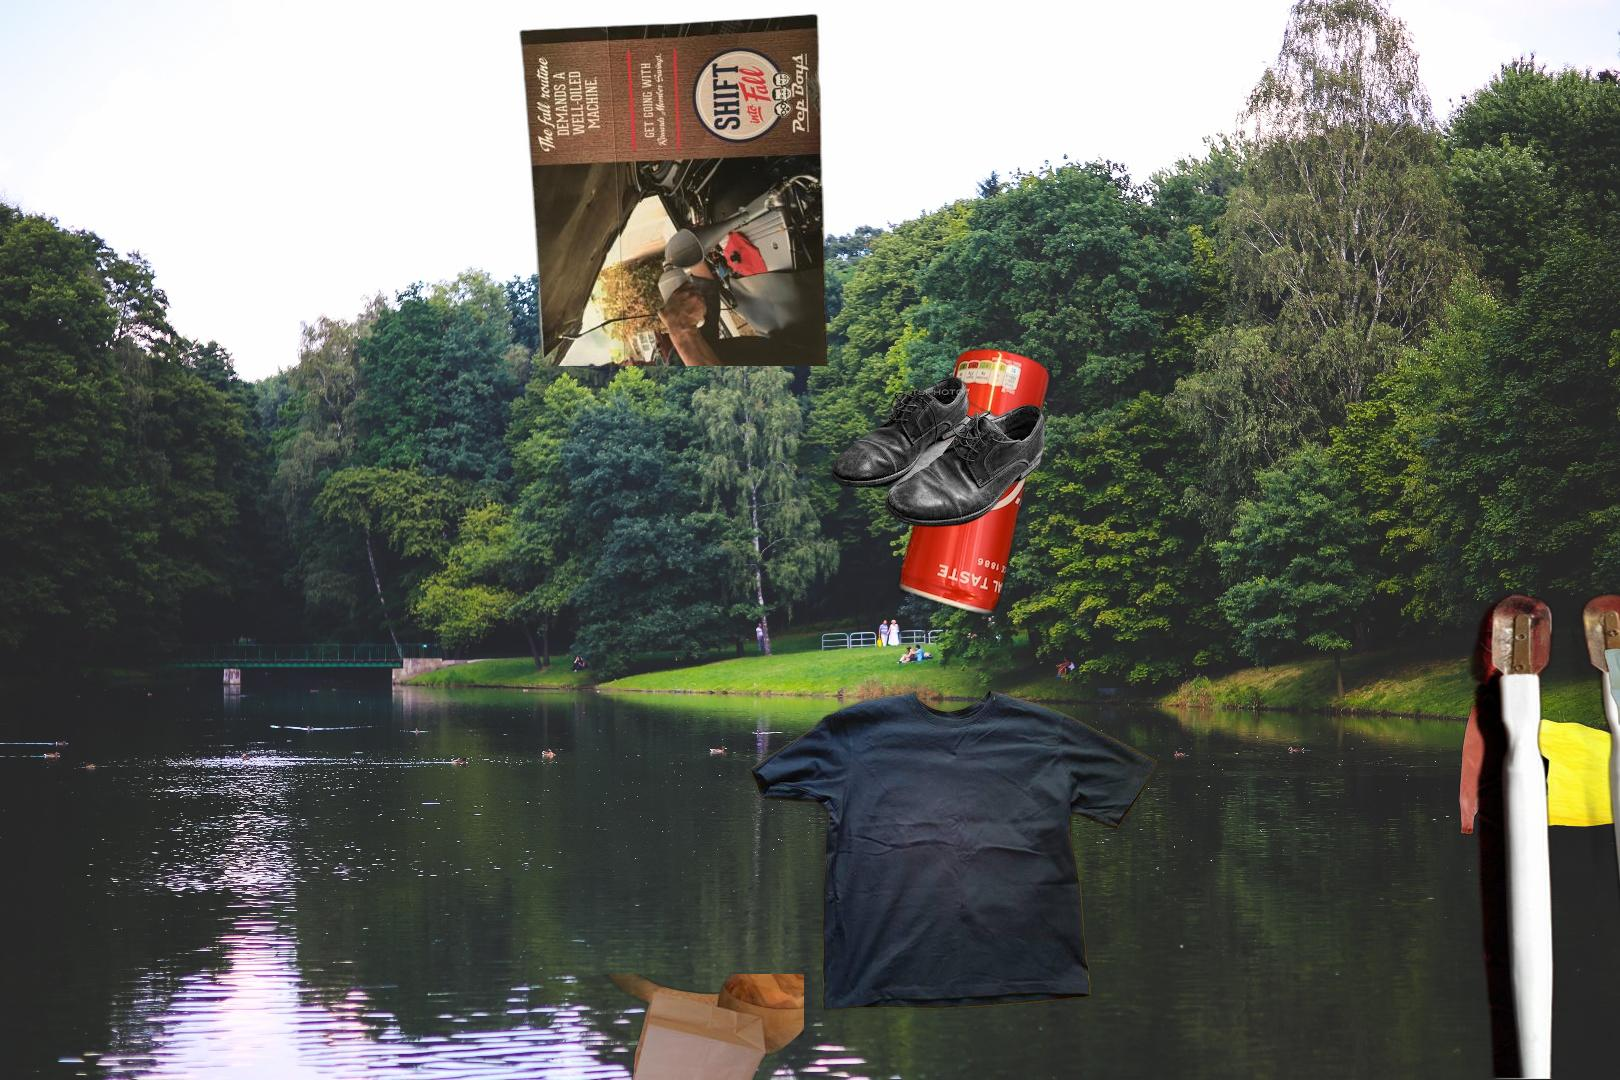clothes: (745, 687, 1164, 1015), (1600, 615, 1620, 950)
metal-cans: (891, 342, 1055, 622)
paper: (516, 12, 832, 366)
paper-bag: (504, 974, 804, 1080)
penholder: (1463, 587, 1620, 1079)
plastic-bag: (1456, 705, 1620, 846)
shoes: (829, 374, 1047, 530)
